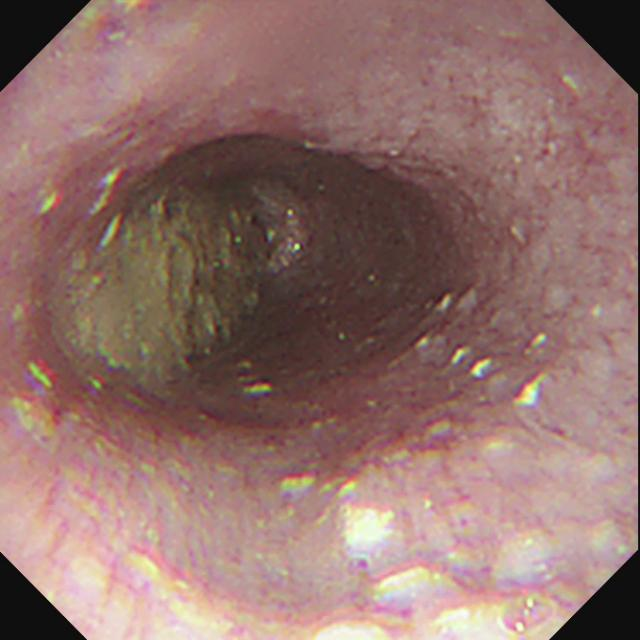B: (58, 191, 273, 384)
J: (277, 469, 446, 599), (415, 331, 546, 411)
